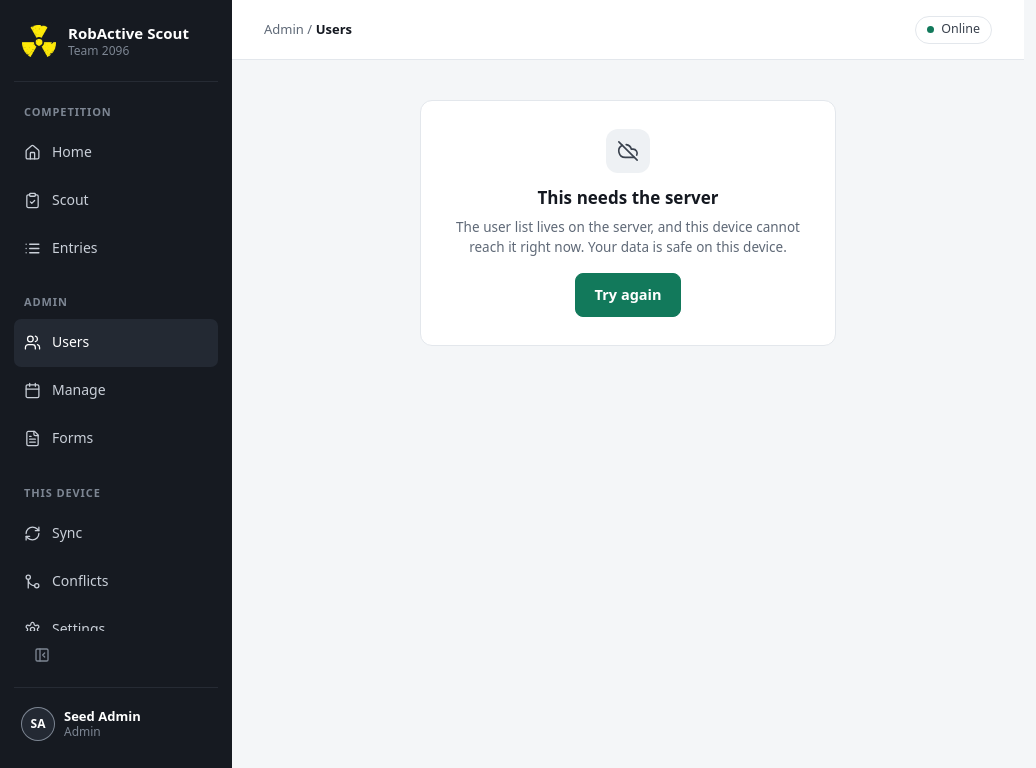
the users table › offline: the needs-the-server state says the data is safe, and Try again reloads
Check: the heading "This needs the server" is shown, box top-left (537, 186), bottom-right (718, 209)
Check: the text "safe on this device" is shown, box top-left (456, 218), bottom-right (800, 256)
Step 1. Click the button "Try again" → (628, 295), box top-left (576, 273), bottom-right (681, 317)
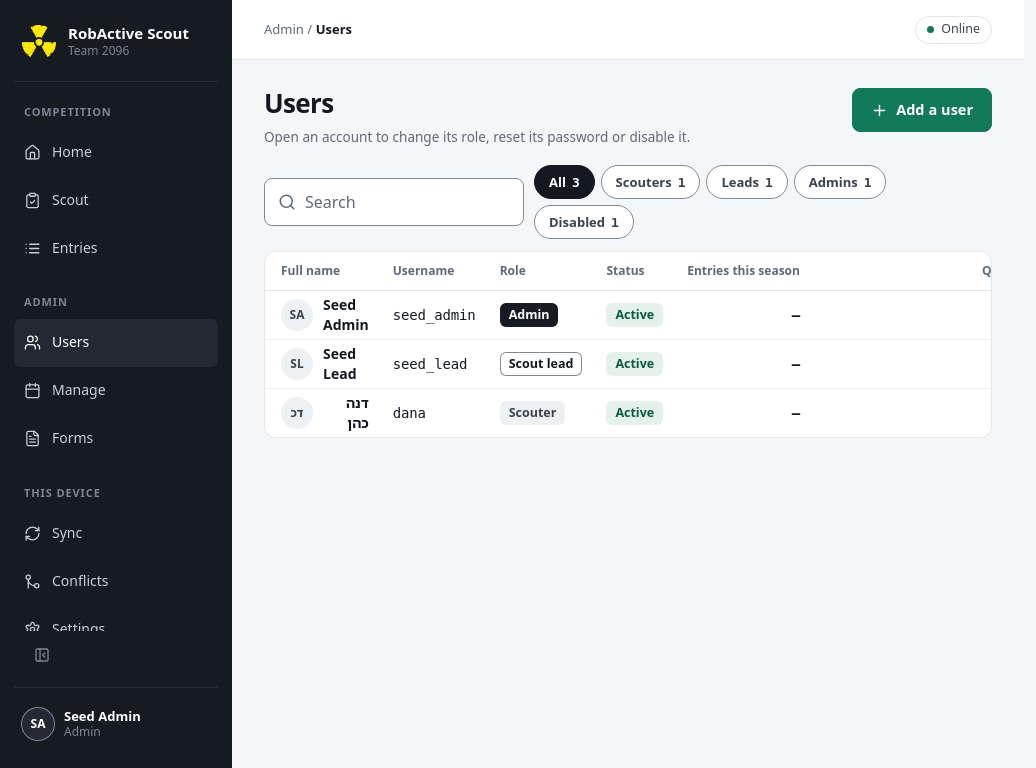
Check: the table is shown, box top-left (265, 252), bottom-right (992, 437)
